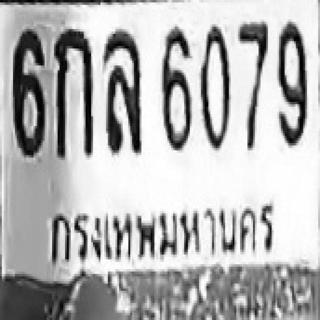A01: (54, 26, 93, 158)
A36: (103, 29, 142, 153)
N00: (199, 24, 231, 150)
N06: (11, 28, 45, 156), (160, 26, 192, 152)
N07: (236, 20, 268, 149)
N09: (275, 20, 307, 146)
P04: (40, 196, 283, 270)
